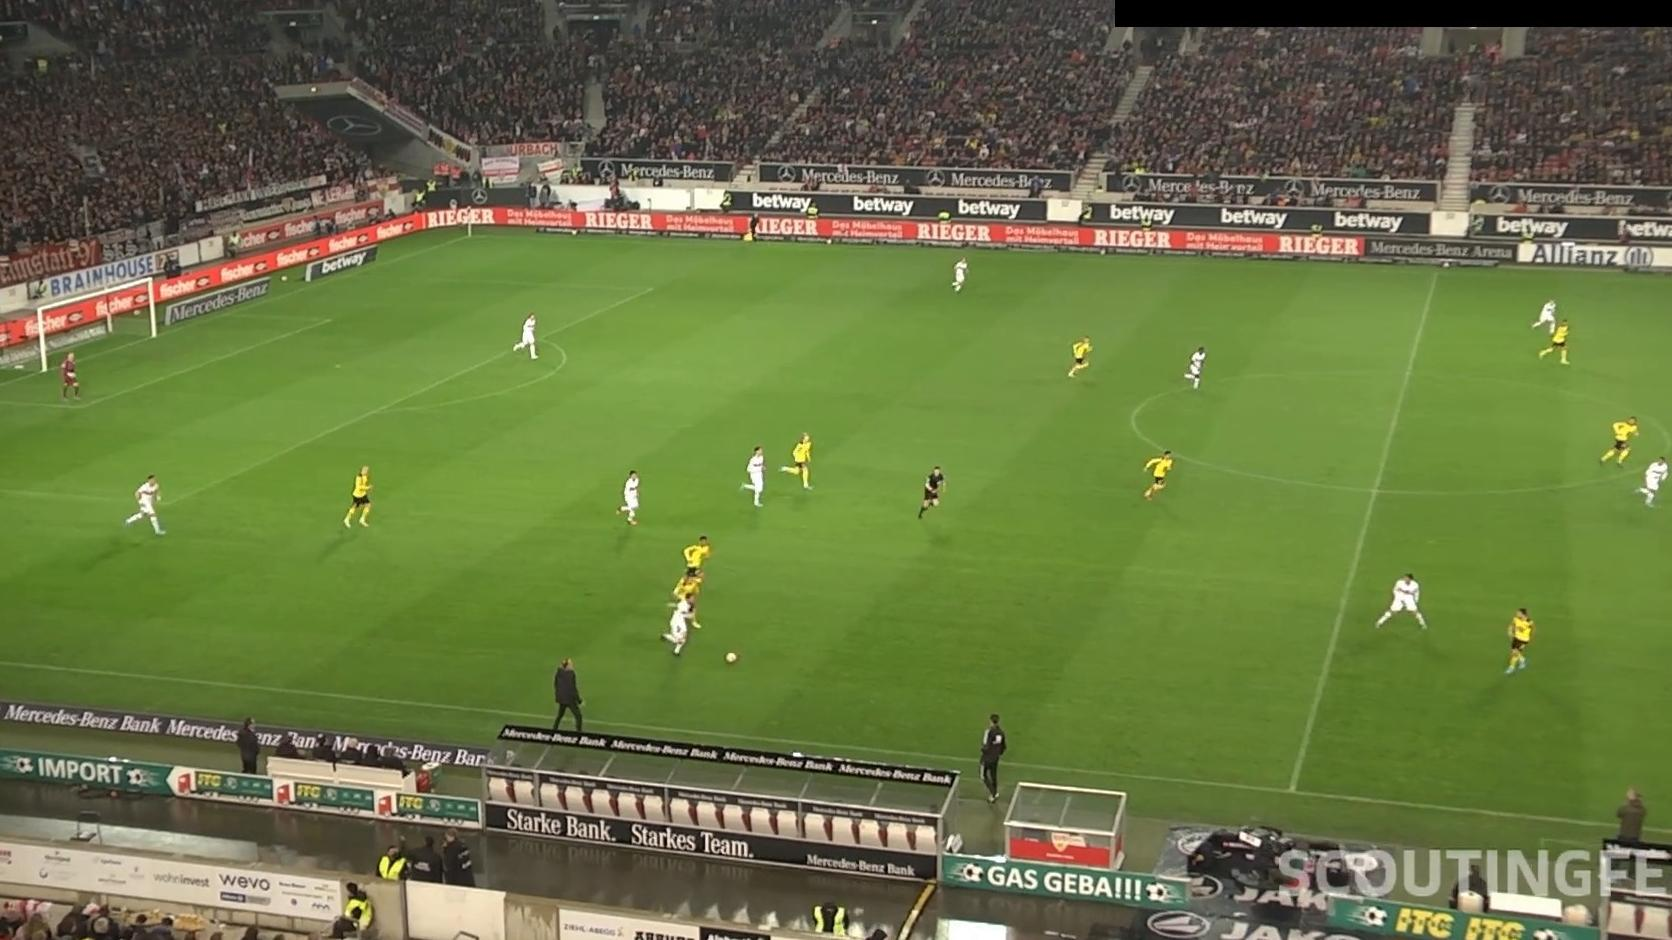ball: (723, 650, 738, 666)
